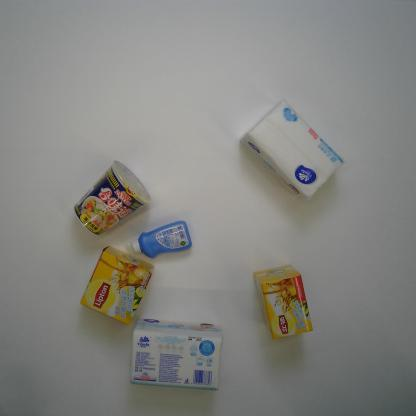Instant Drink: (79, 244, 156, 326), (252, 263, 314, 342)
Instant Noodles: (71, 159, 152, 237)
Personal Hygiene: (127, 219, 192, 259)
Tissue: (239, 98, 346, 204), (128, 316, 224, 392)
